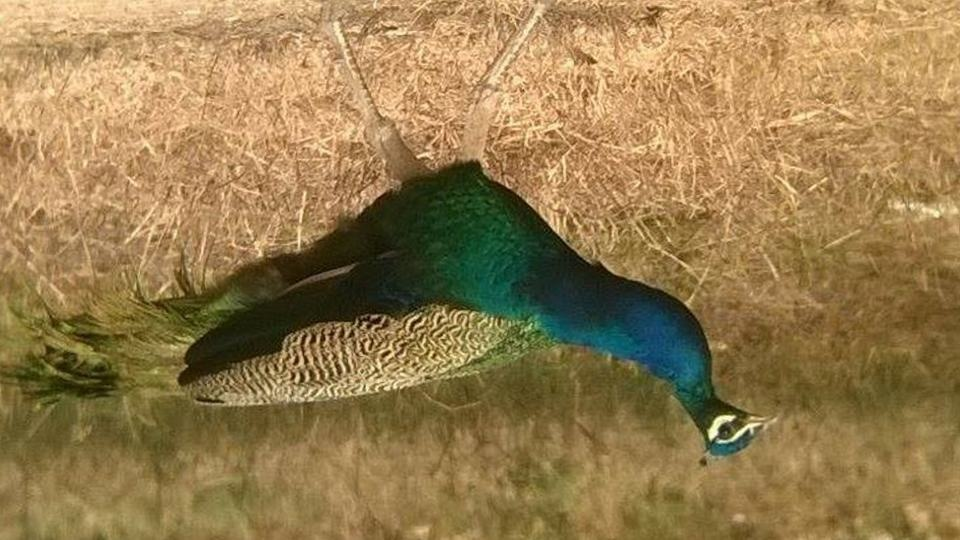peacock: (116, 141, 782, 461)
